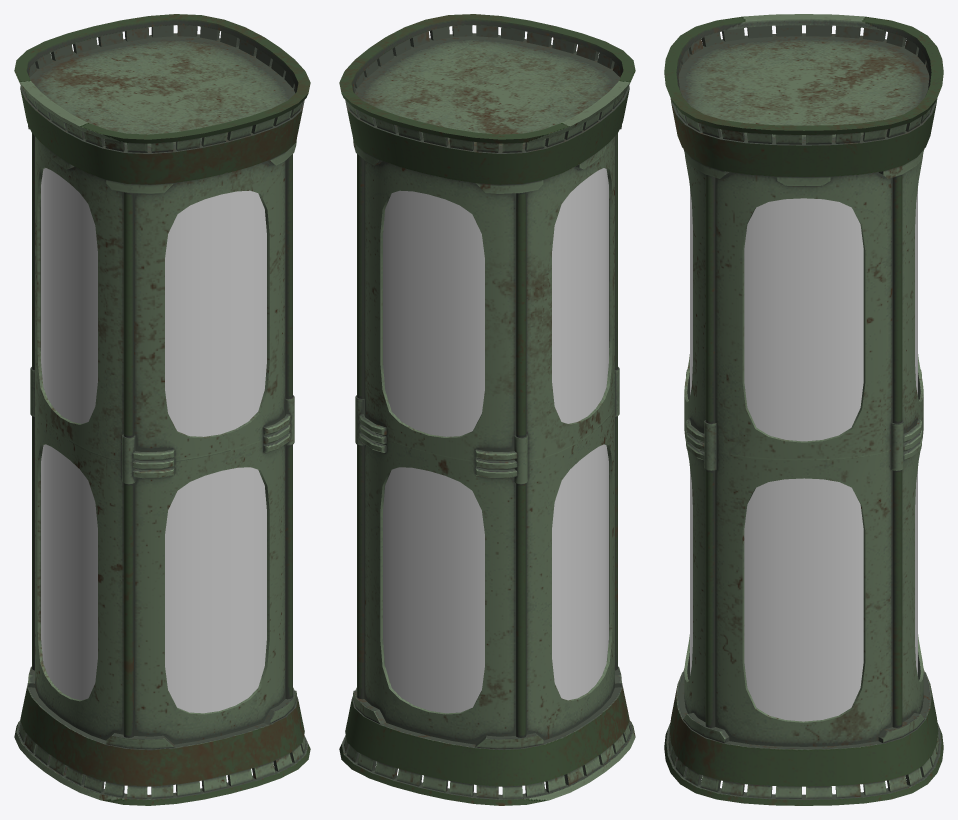
The model's file is ChemTubes.fbx.
The picture shows the model from 3 angles, left to right: view 1: azimuth 30°, elevation 25°; view 2: azimuth 150°, elevation 25°; view 3: azimuth 270°, elevation 25°; orthographic projection.
Parts seen in each view (by area): view 1: Cube.048, Glass; view 2: Cube.048, Glass; view 3: Cube.048, Glass.
Boxes of the visible parts, <box> form: Cube.048: <box>14,14,310,805</box>; Glass: <box>41,168,266,713</box>; Cube.048: <box>339,14,635,805</box>; Glass: <box>383,168,608,713</box>; Cube.048: <box>664,14,943,805</box>; Glass: <box>690,188,917,721</box>.
Size of the model in its own units: 0.9977 by 2.69 by 1.01.
